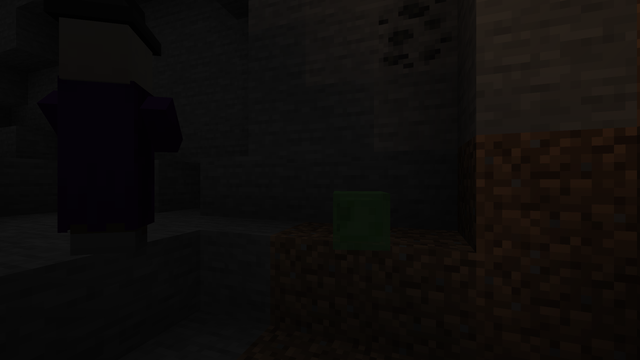slimes: (325, 189, 388, 252)
sorcieres: (46, 2, 167, 263)
